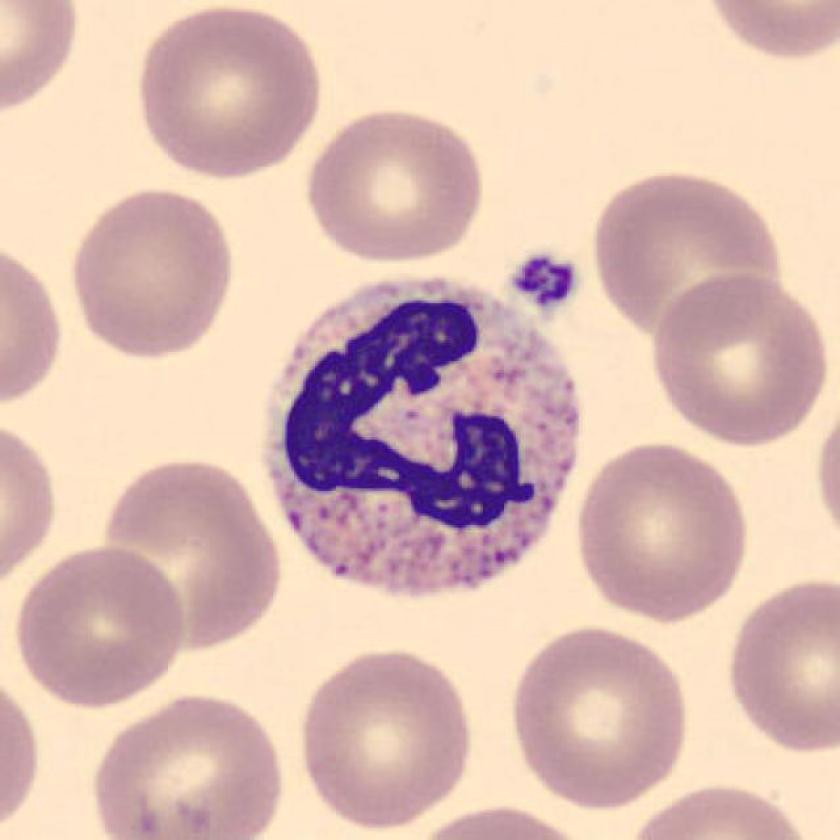neutrophil: (263, 278, 580, 593)
